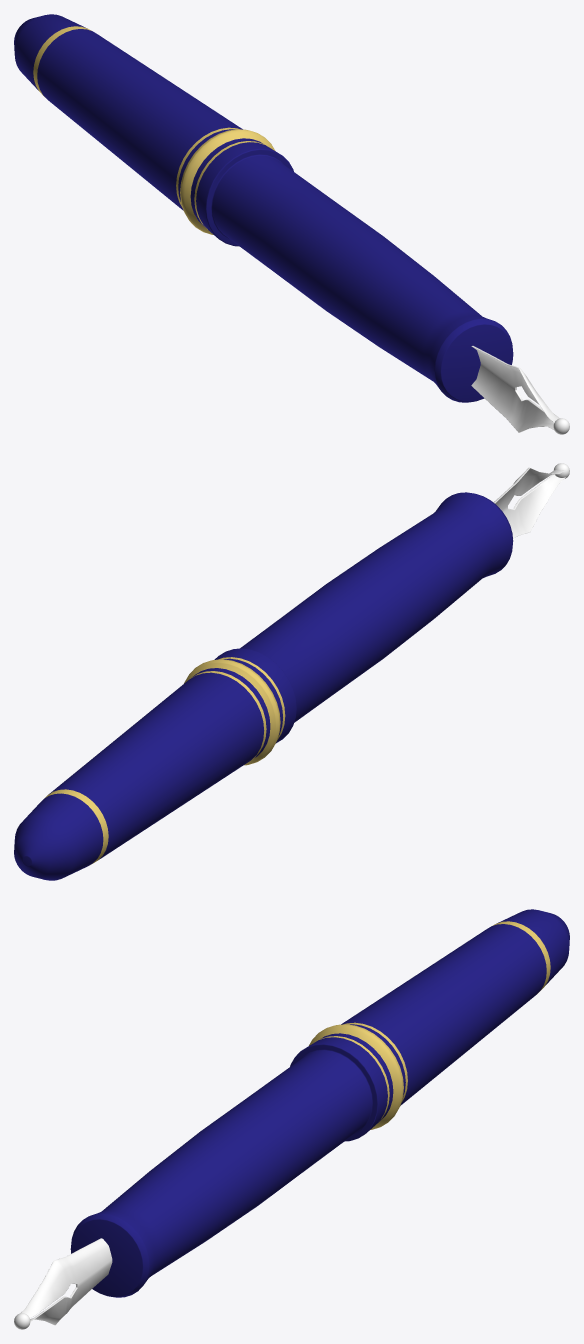
Rendered from 2024_XRHI_PenModel_mdl.fbx.
3 views of the same model, one above another, from view 1: azimuth 30°, elevation 25°; view 2: azimuth 150°, elevation 25°; view 3: azimuth 330°, elevation 25° (orthographic).
Parts seen in each view (by area): view 1: Cylinder, Plane; view 2: Cylinder, Plane; view 3: Cylinder, Plane.
Boxes of the visible parts, bbox=[...] form: Cylinder: bbox=[14, 14, 513, 402]; Plane: bbox=[471, 346, 569, 434]; Cylinder: bbox=[14, 492, 513, 880]; Plane: bbox=[493, 463, 569, 538]; Cylinder: bbox=[70, 909, 569, 1297]; Plane: bbox=[14, 1238, 112, 1329].
Bounding box in the file's own units: 0.0182 × 0.0182 × 0.1726.
